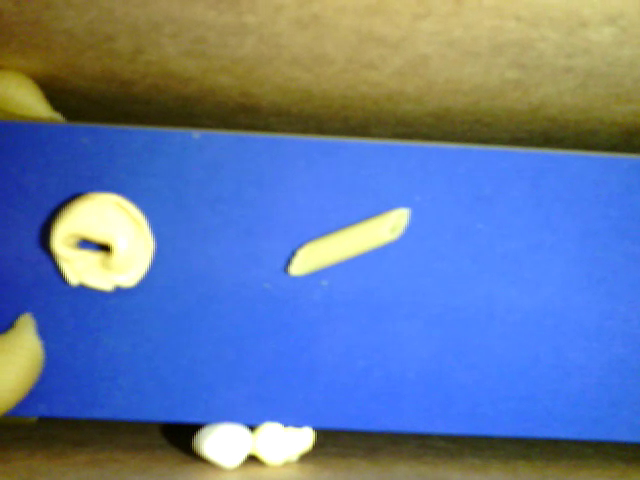penne: (286, 207, 412, 281)
shell: (2, 308, 44, 416), (1, 70, 67, 125)
tortellini: (45, 191, 157, 292)
